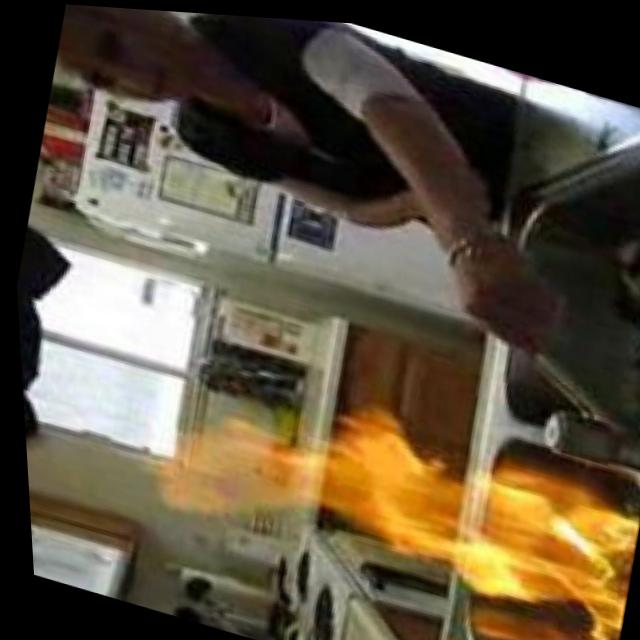Fire: (137, 348, 640, 633)
